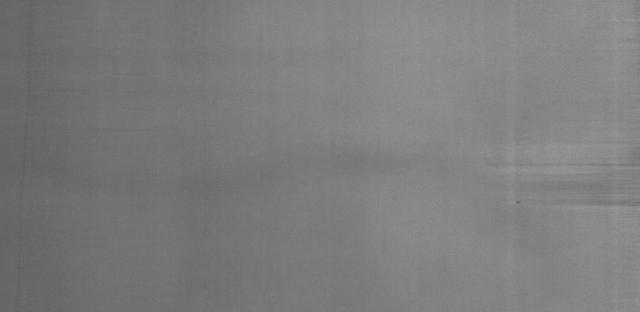waist_folding: (494, 45, 640, 277)
